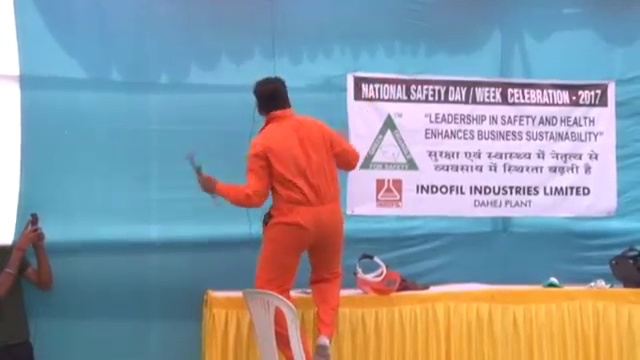helmet_off: (252, 74, 296, 119)
person: (203, 76, 361, 360), (1, 215, 51, 358)
